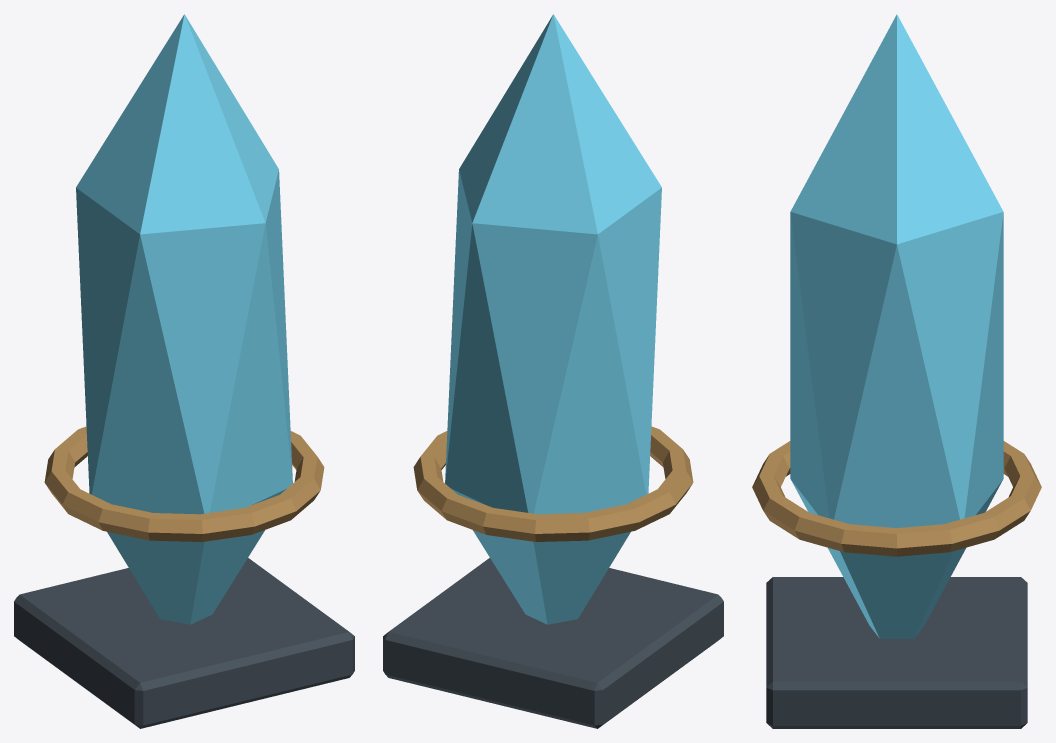
Rendered from SH10_L06_IceCrystal.fbx.
3 views of the same model, side by side, from view 1: azimuth 30°, elevation 25°; view 2: azimuth 150°, elevation 25°; view 3: azimuth 270°, elevation 25° (orthographic). The views are drawn at different scales.
Parts seen in each view (by area): view 1: SH10_L06_IceCrystal; view 2: SH10_L06_IceCrystal; view 3: SH10_L06_IceCrystal.
Boxes of the visible parts, box(x1,y1,x2,y2) form: SH10_L06_IceCrystal: box(14, 14, 354, 728); SH10_L06_IceCrystal: box(383, 14, 723, 728); SH10_L06_IceCrystal: box(752, 14, 1041, 728).
Bounding box in the file's own units: 111 × 280 × 111.
